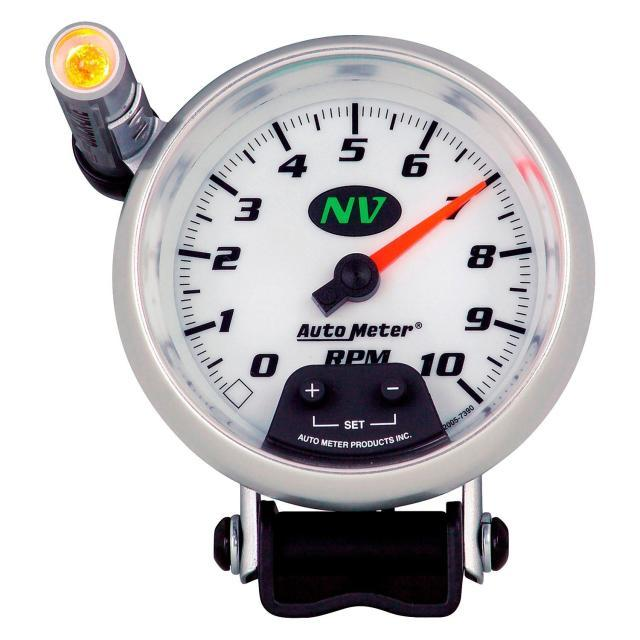Needle_Tip: (459, 158, 500, 220)
Needle_base: (327, 246, 391, 317)
max_value: (416, 338, 479, 402)
min_value: (240, 347, 293, 401)
